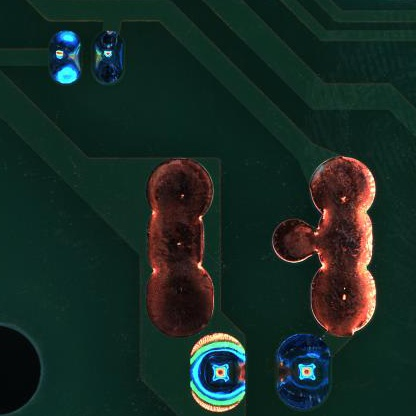spot: (187, 331, 245, 410), (276, 334, 331, 410), (92, 29, 125, 88), (50, 29, 82, 85)
